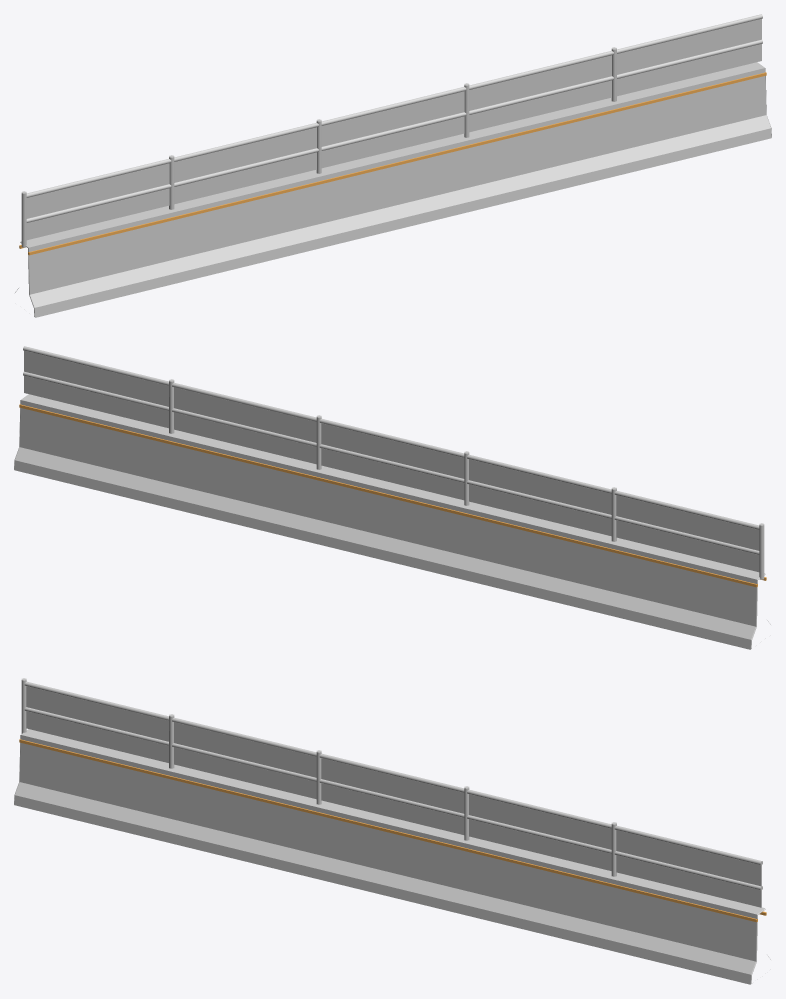
Rendered from FactoryWall.glb.
3 views of the same model, one above another, from view 1: azimuth 30°, elevation 25°; view 2: azimuth 150°, elevation 25°; view 3: azimuth 330°, elevation 25° (orthographic).
Visible parts, largest first — view 1: Body, Glow; view 2: Body, Glow; view 3: Body, Glow.
Part boxes in pixels (x1,y1,x2,y2): Body: (15,14,771,317); Glow: (19,72,766,255); Body: (14,346,770,649); Glow: (19,404,766,587); Body: (14,678,770,984); Glow: (19,739,766,922).
Size of the model in its own units: 40.14 by 6.1 by 2.
